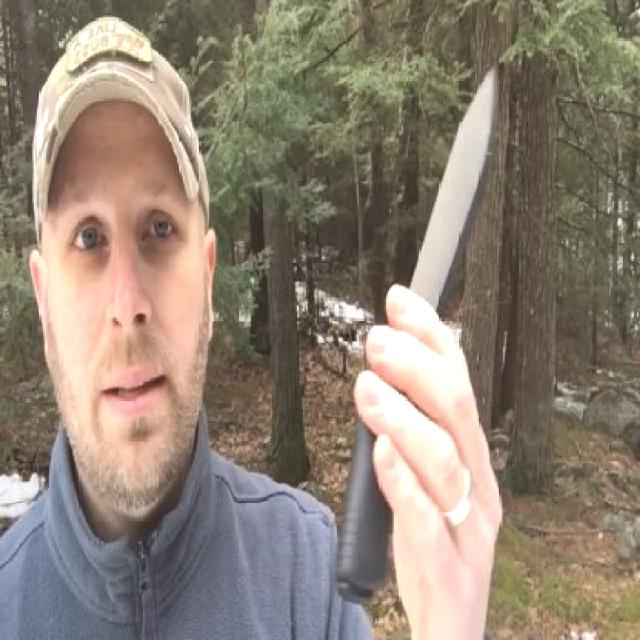knife: (350, 50, 508, 428)
